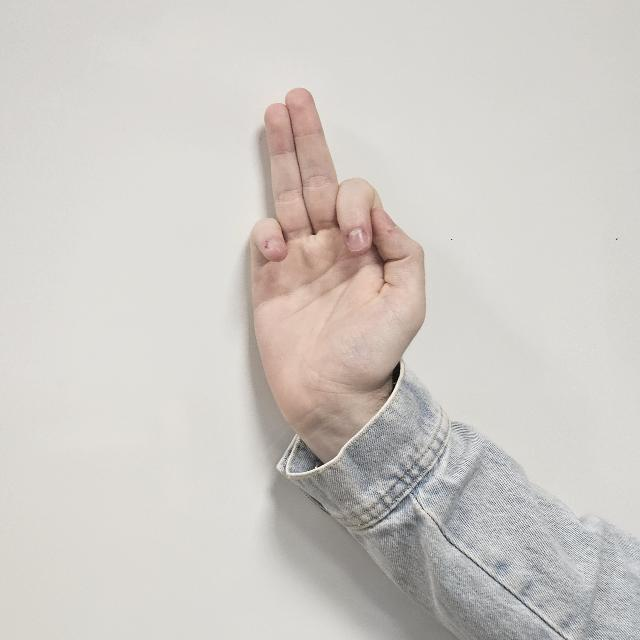R: (248, 87, 427, 451)
